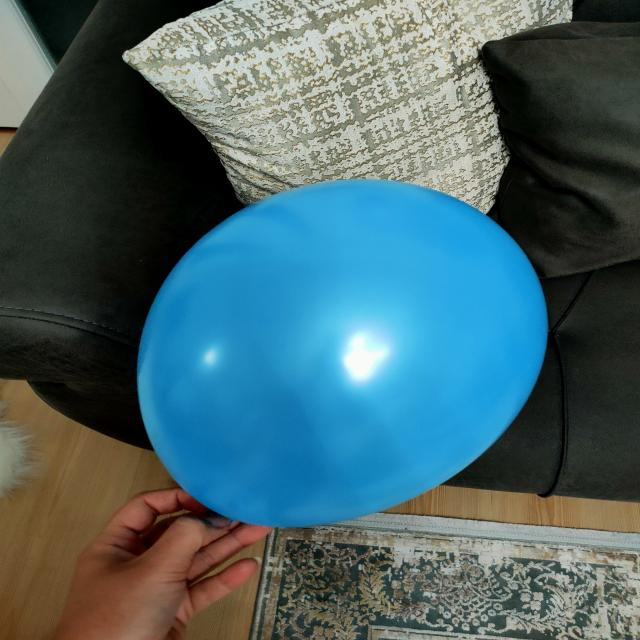blue: (145, 179, 548, 523)
